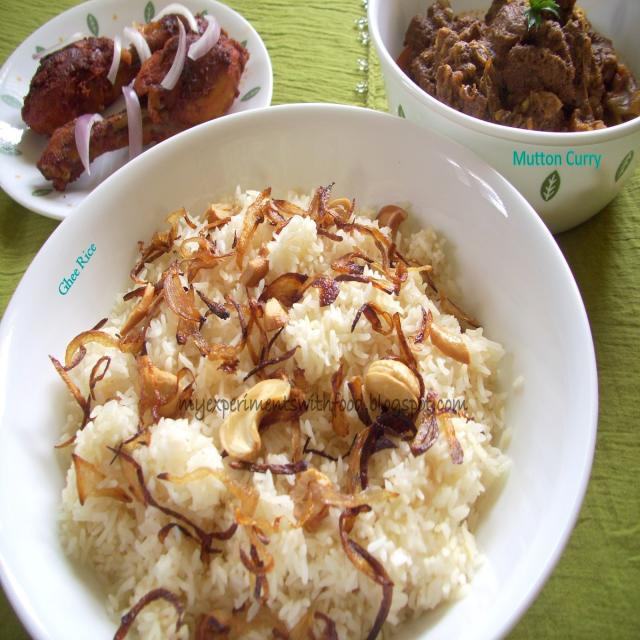nei satham: (54, 200, 504, 640)
